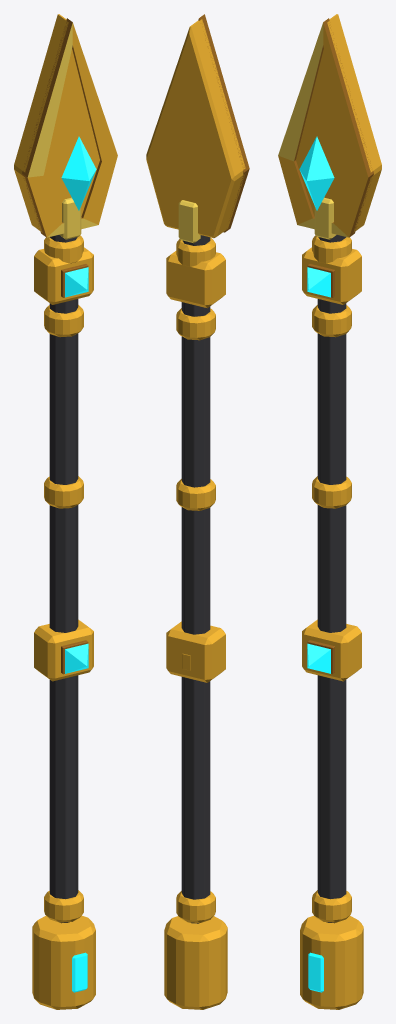
File: GoldenSpear.fbx
3 views of the same model, side by side, from view 1: azimuth 30°, elevation 25°; view 2: azimuth 150°, elevation 25°; view 3: azimuth 330°, elevation 25° (orthographic).
Visible parts, largest first — view 1: GoldenSpear; view 2: GoldenSpear; view 3: GoldenSpear.
Part boxes in pixels (x1,y1,x2,y2): GoldenSpear: (14, 14, 117, 1009); GoldenSpear: (146, 14, 249, 1009); GoldenSpear: (278, 14, 381, 1009).
Size of the model in its own units: 22.6 by 235 by 17.84.
